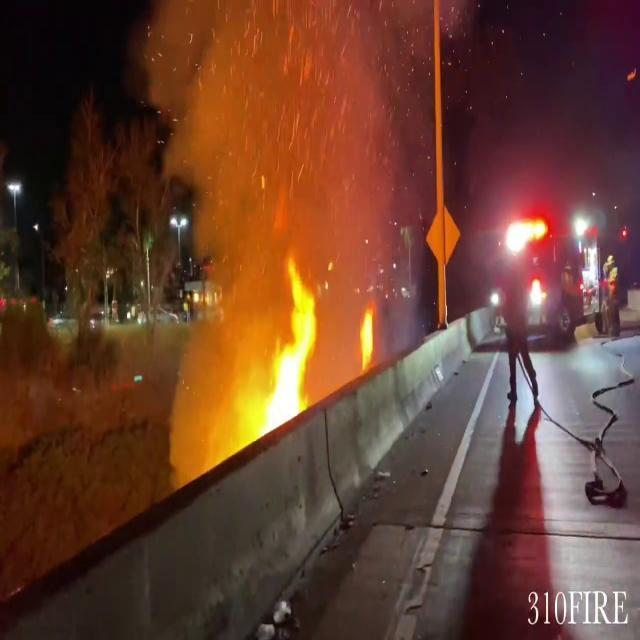Fire: (257, 244, 323, 436), (358, 302, 377, 376)
Smoke: (152, 4, 427, 312)
